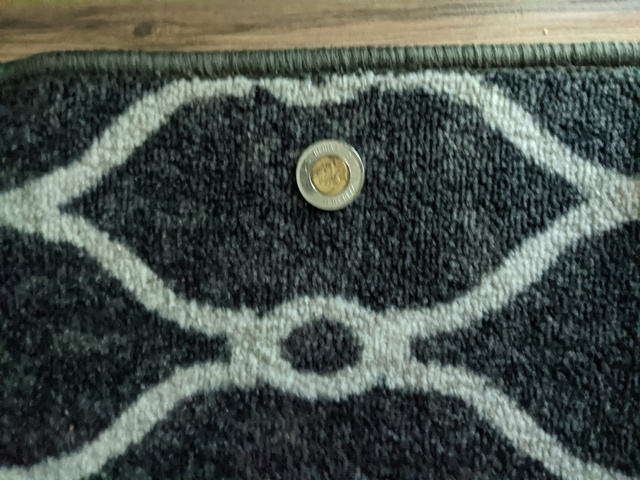twonie: (290, 139, 368, 212)
